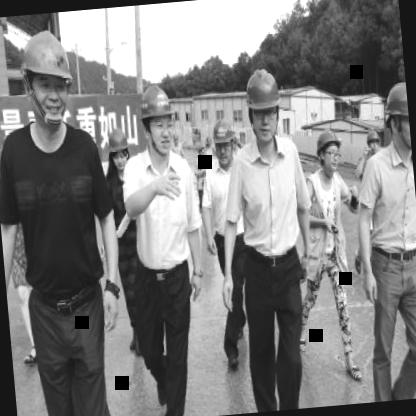helmet: (15, 21, 83, 130), (240, 59, 290, 151), (134, 79, 180, 159), (380, 75, 412, 156), (104, 120, 135, 178), (313, 127, 346, 173), (209, 115, 238, 166), (364, 124, 382, 163)
